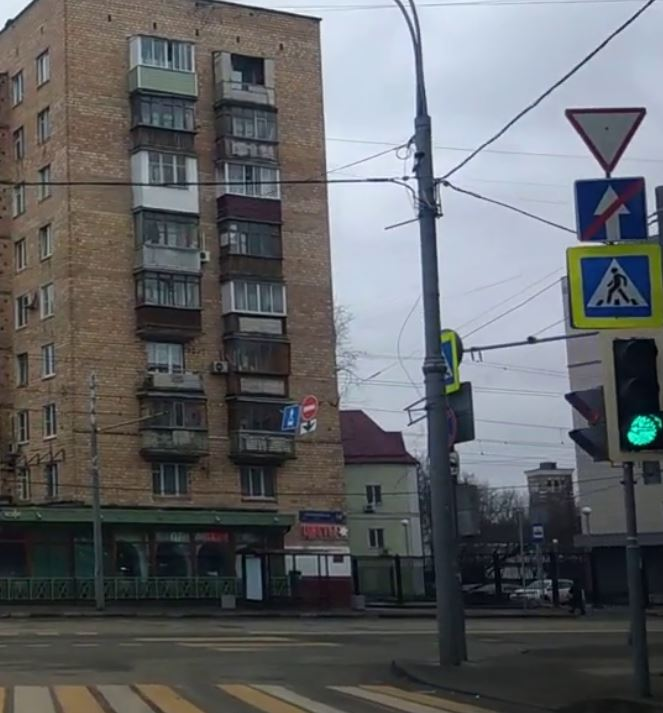Yaya Gecidi: (582, 253, 654, 316)
Yol Ver: (567, 105, 647, 171)
